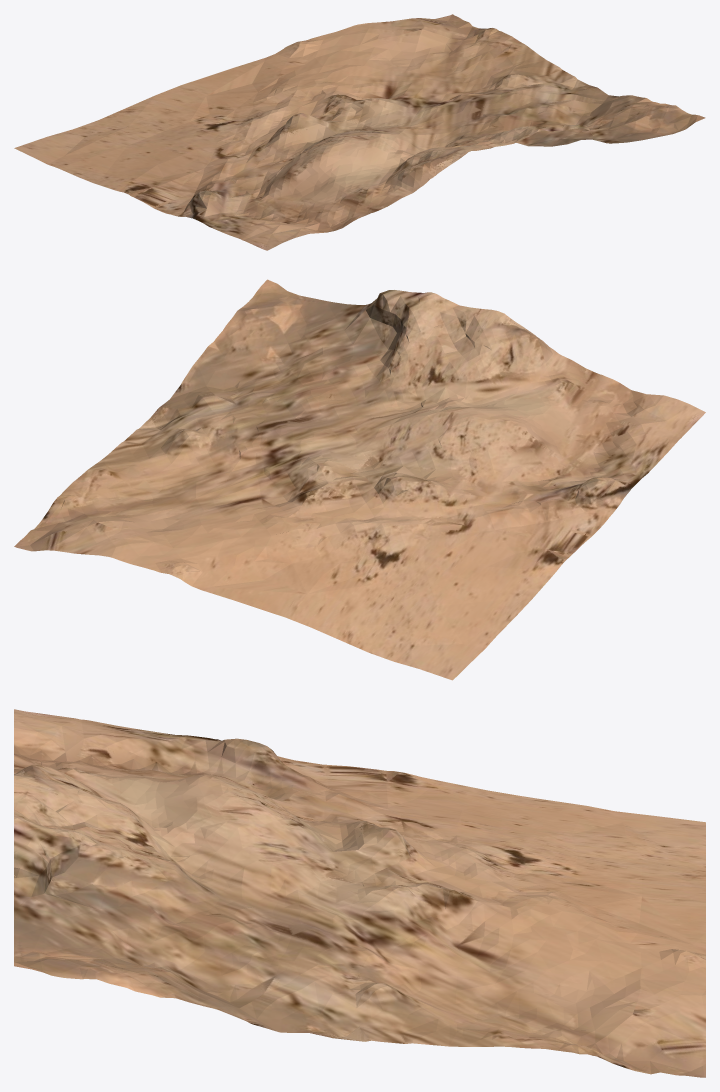
3 renders of one model, top to bottom at view 1: azimuth 30°, elevation 25°; view 2: azimuth 150°, elevation 25°; view 3: azimuth 270°, elevation 25°, orthographic. The views are drawn at different scales.
Size of the model in its own units: 2.09 by 0.6179 by 2.09.
Materials: 2 (2 with a texture image).
